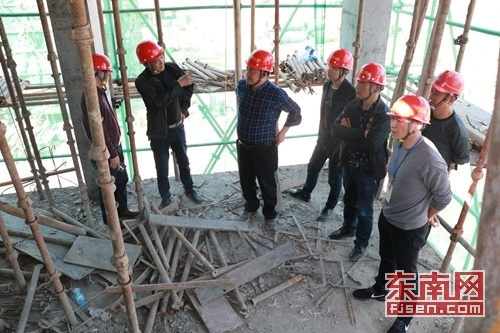red: (383, 91, 430, 142), (428, 70, 464, 112), (241, 48, 276, 86), (354, 61, 387, 101), (323, 48, 355, 83), (135, 38, 167, 73), (88, 51, 112, 86)
